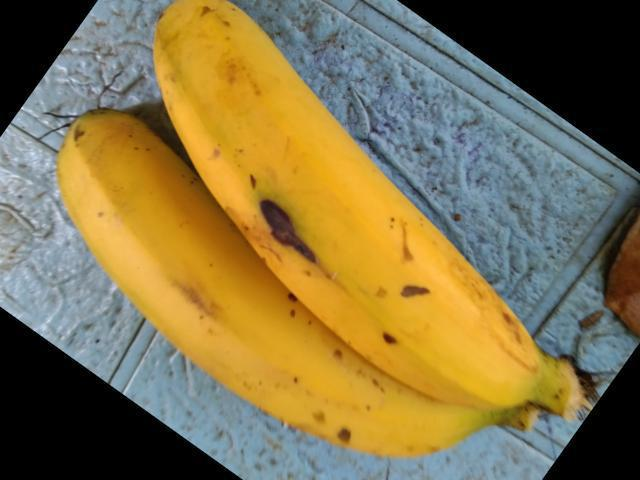freshripe: (40, 115, 239, 382)
ripe: (164, 0, 544, 368)
